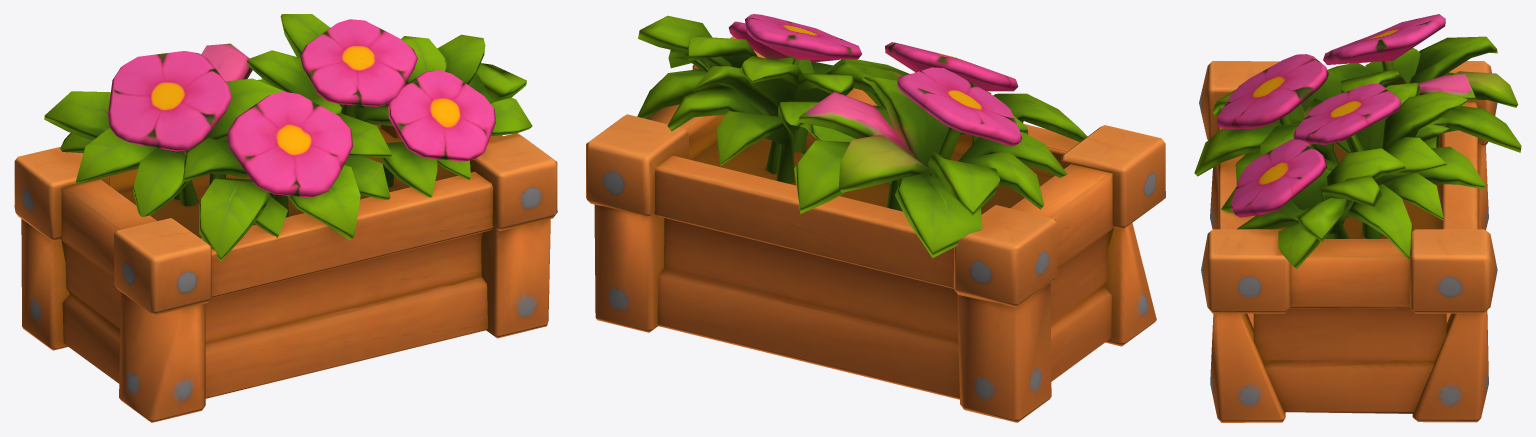
The model's file is planter_riveted.glb.
The picture shows the model from 3 angles, left to right: view 1: azimuth 30°, elevation 25°; view 2: azimuth 150°, elevation 25°; view 3: azimuth 270°, elevation 25°; orthographic projection. The views are drawn at different scales.
Parts seen in each view (by area): view 1: geometry_0; view 2: geometry_0; view 3: geometry_0.
Part boxes in pixels (x1=…): geometry_0: x1=14, y1=14, x2=557, y2=422; geometry_0: x1=586, y1=14, x2=1165, y2=422; geometry_0: x1=1194, y1=14, x2=1521, y2=422.
Size of the model in its own units: 0.9614 by 0.5698 by 0.627.
1 material, 1 textured.
